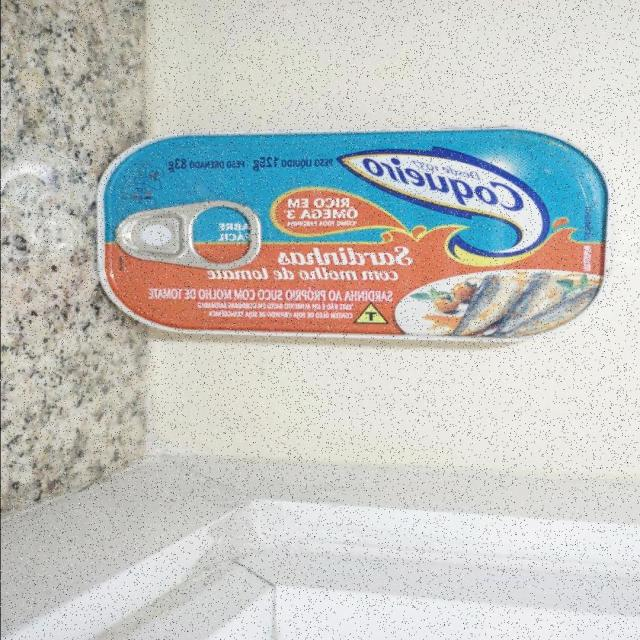TunaCan: (92, 127, 609, 345)
